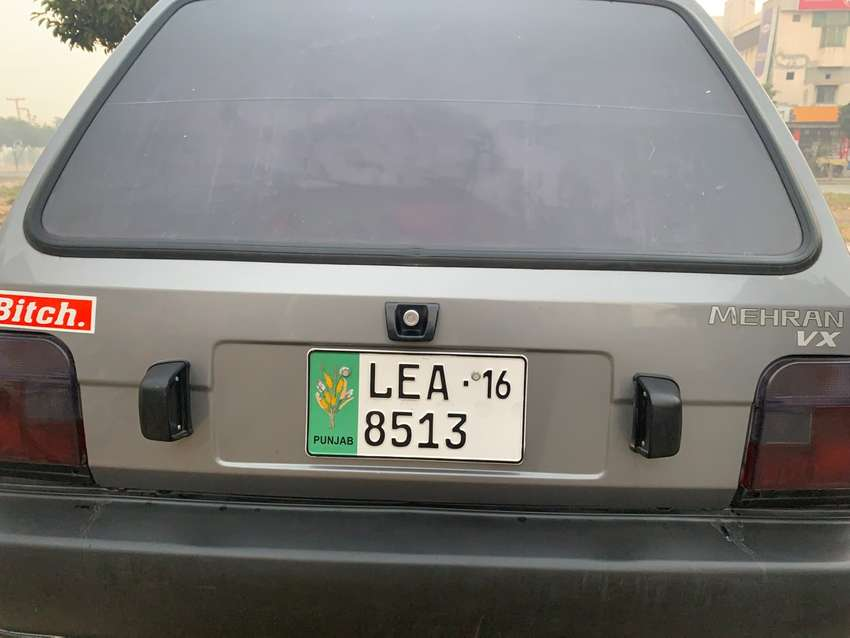plate: (301, 346, 531, 466)
